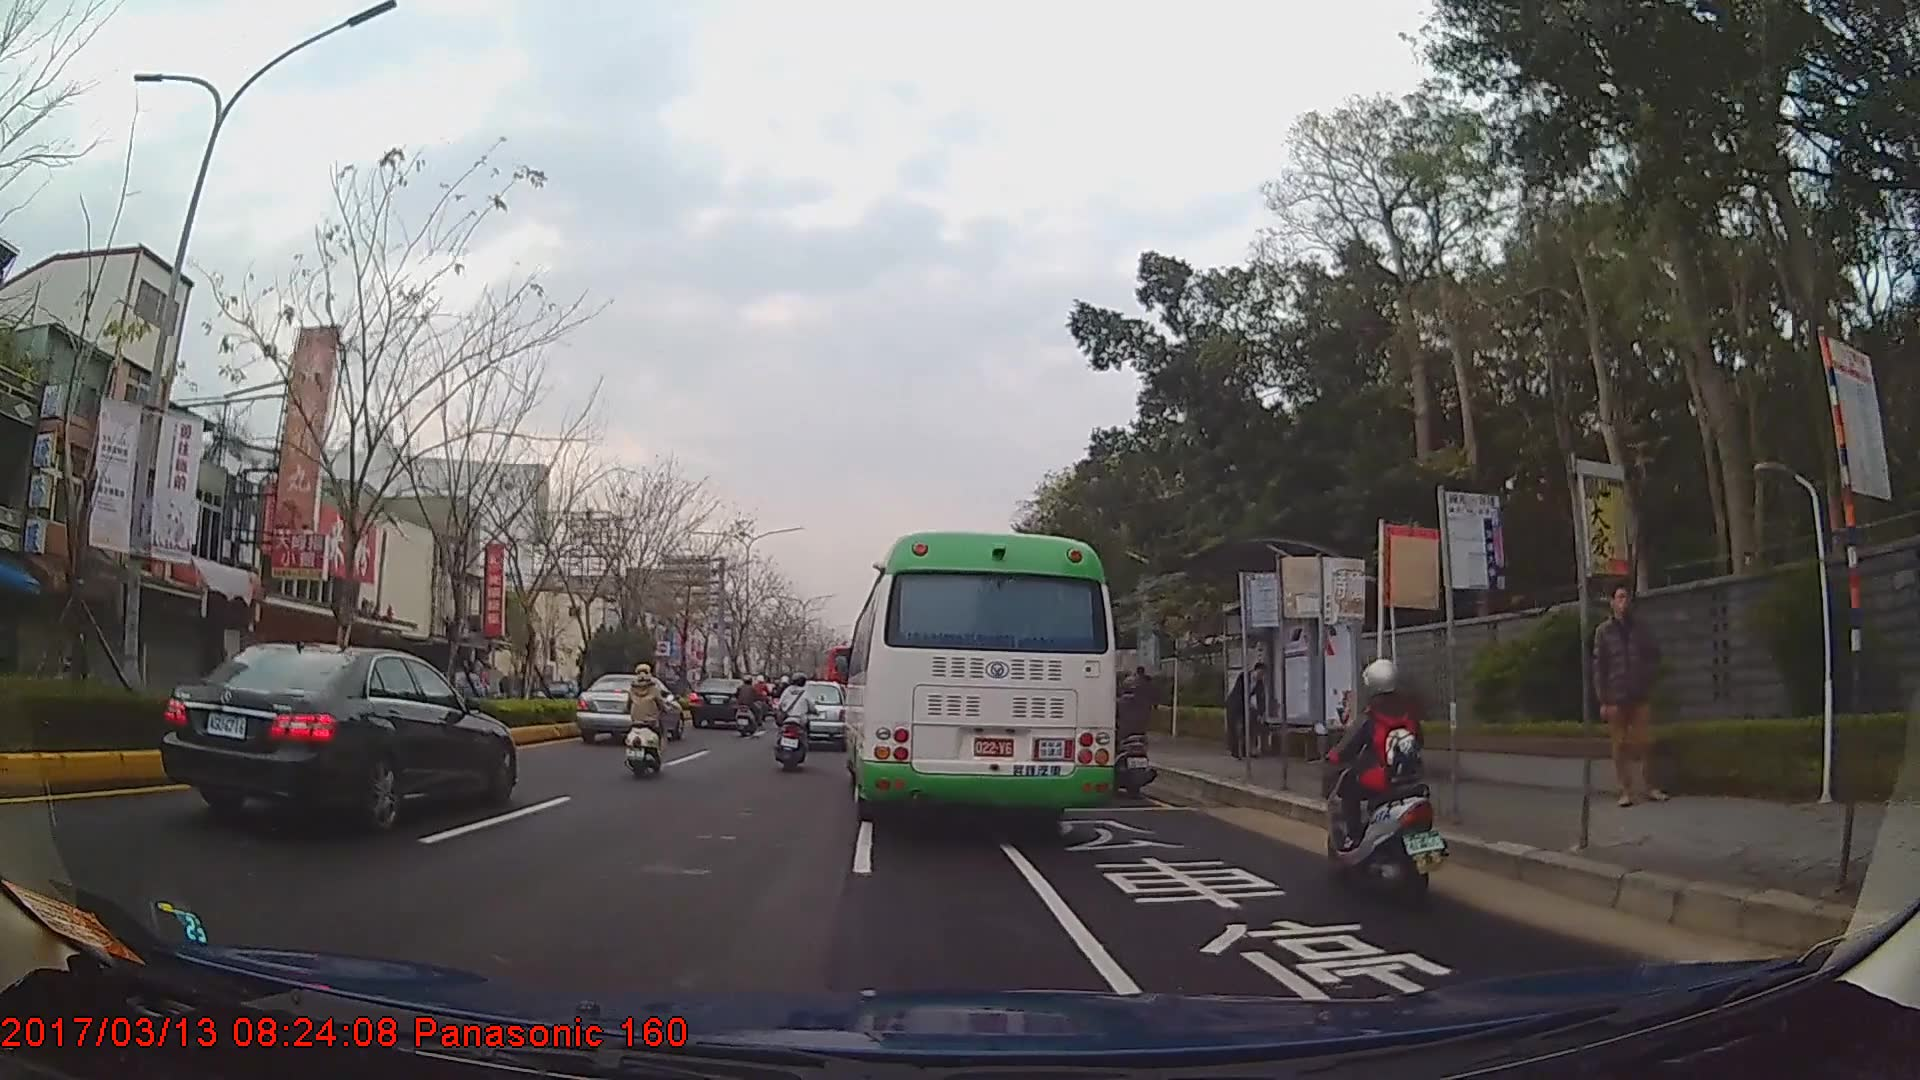pedestrian: (1590, 589, 1665, 810), (1221, 662, 1274, 762)
rider: (1323, 658, 1451, 905), (1109, 675, 1165, 802), (625, 663, 673, 777), (778, 678, 823, 775), (735, 675, 764, 740), (61, 629, 89, 681)
vehicle: (843, 532, 1118, 832), (156, 639, 516, 839), (577, 672, 685, 744), (781, 678, 851, 748), (688, 676, 755, 730)
